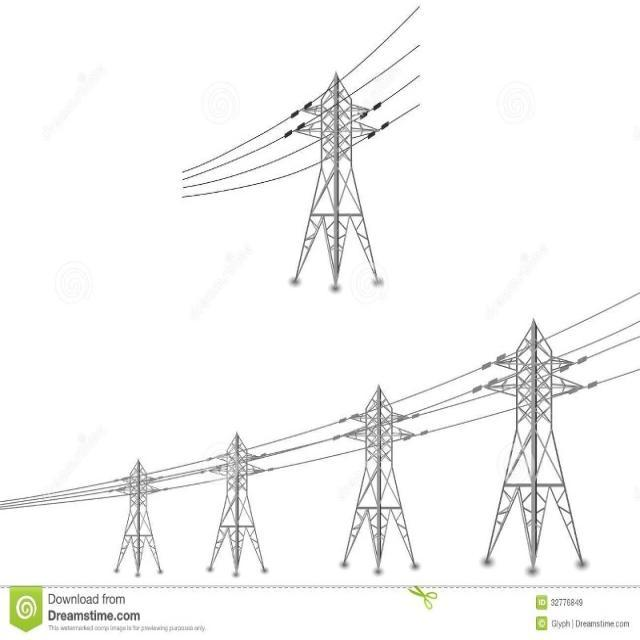non-critical vegetation: (474, 310, 590, 576), (286, 65, 384, 292), (336, 380, 422, 578), (200, 426, 270, 578), (106, 453, 164, 581)
